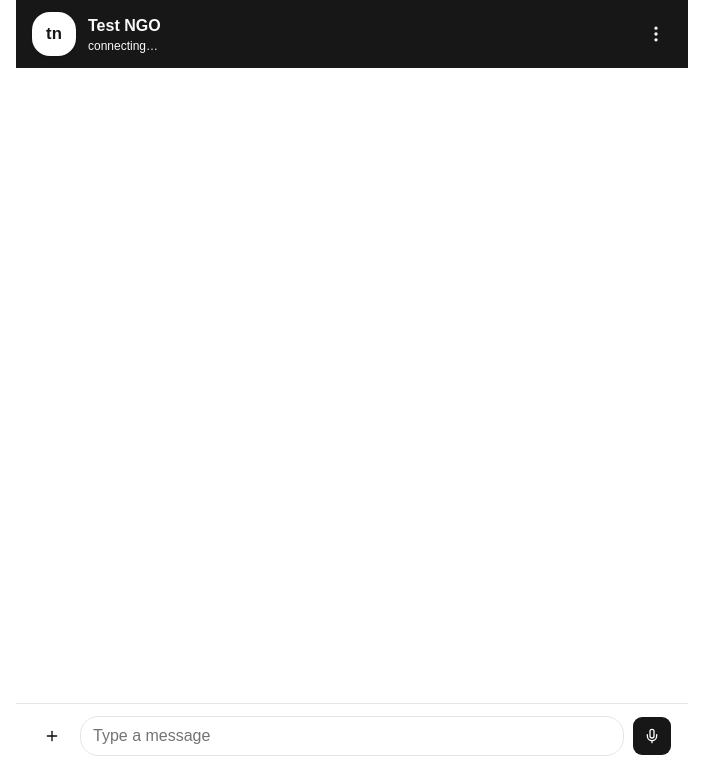
Test case: <Chat /> media, voice and location composers › opens the attach menu from +, and closes it again
The width and height of the screenshot is (705, 768).
Expected: the text box with test id "composerInput" is shown, [80,716,624,756]
Click the button with test id "attachButton" at coordinates (52, 736), box [32,716,72,756]
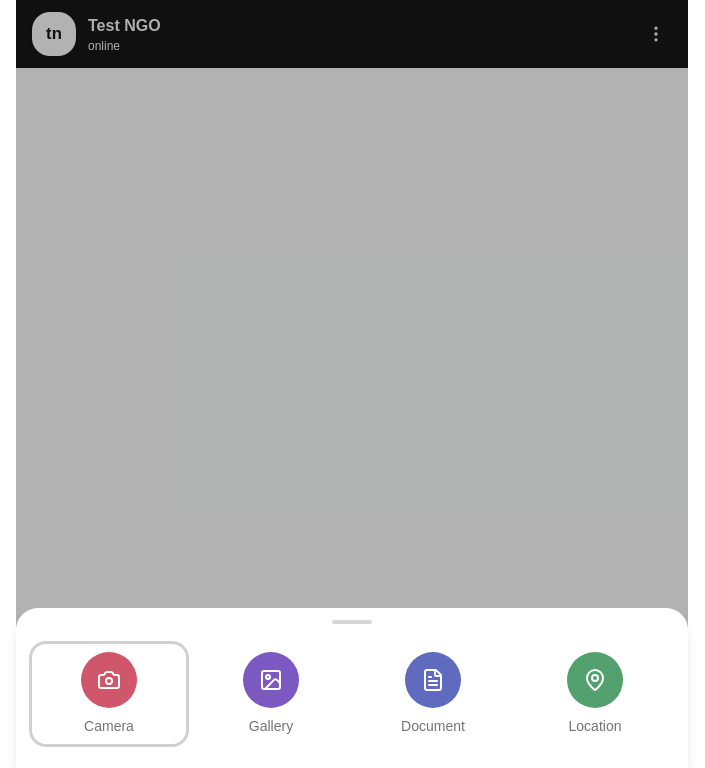
Now the menu with test id "attachMenu" is shown, box [16,608,688,767]
Now the button with test id "attachButton" is expanded, box [32,716,72,756]
Press Escape
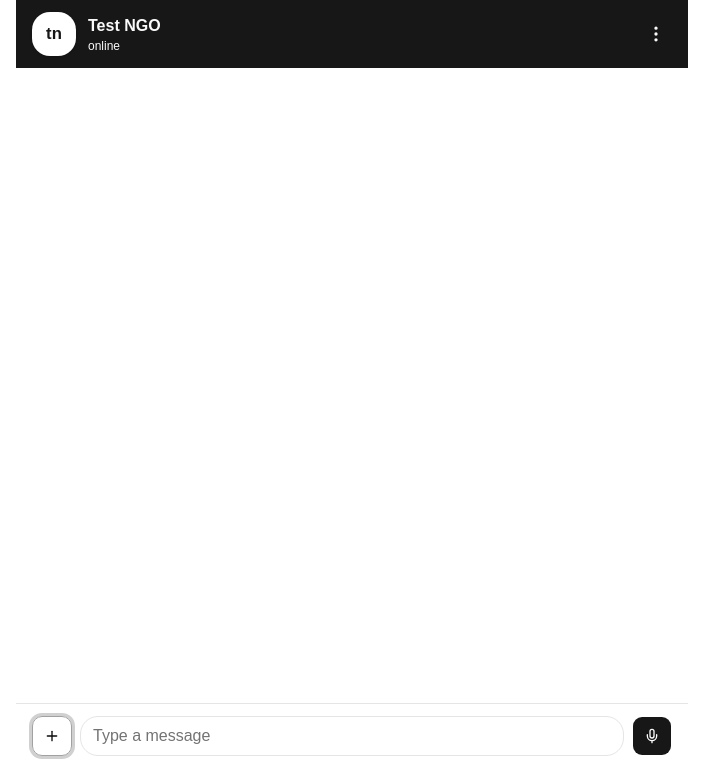
Now the menu with test id "attachMenu" is gone
Click the button with test id "attachButton" at coordinates (52, 736), box [32,716,72,756]
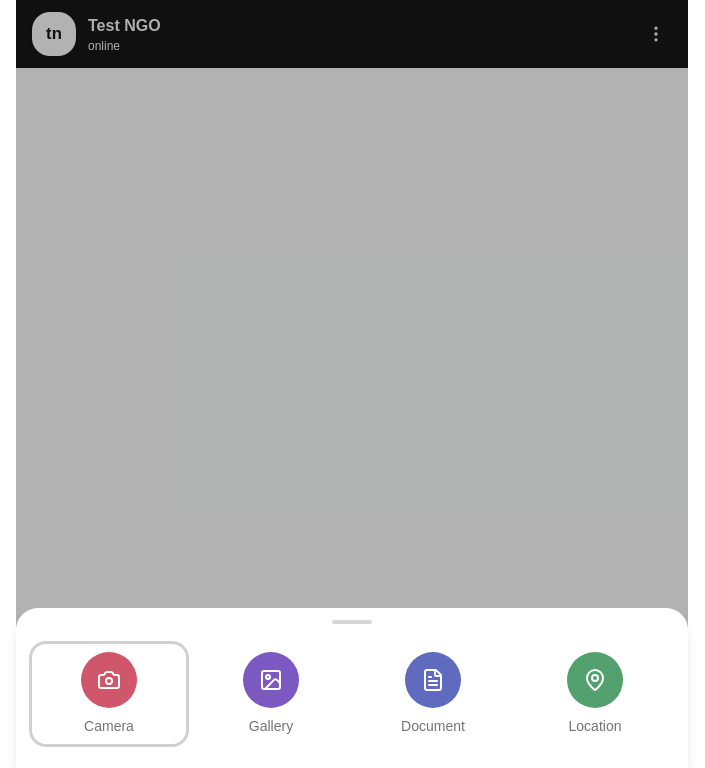
Click the element with test id "attachBackdrop" at coordinates (352, 384), box [16,0,688,767]
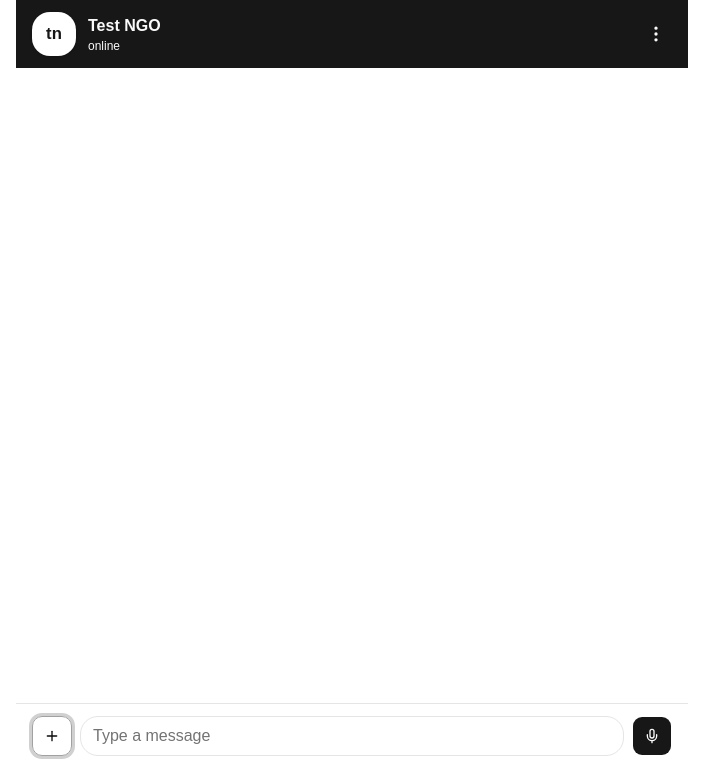
Now the menu with test id "attachMenu" is gone
